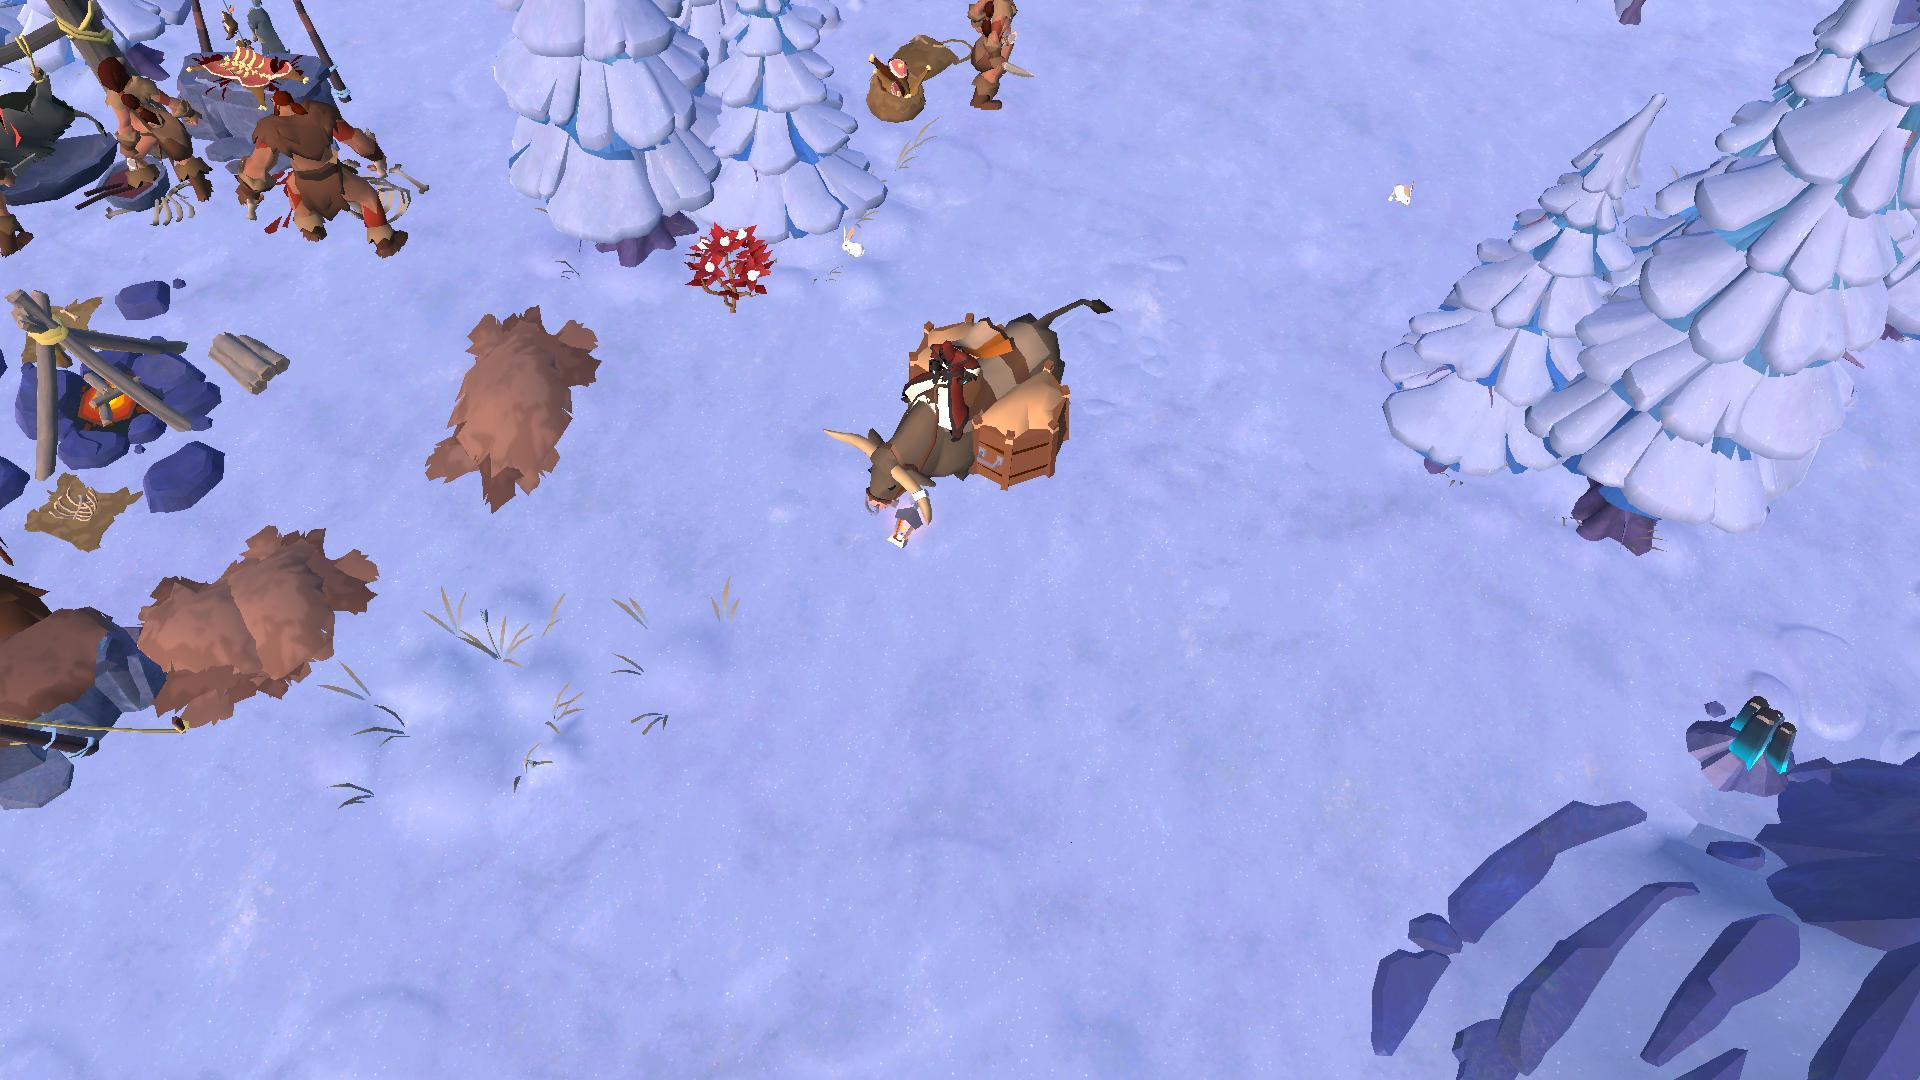enemy_factionKeeper: (241, 86, 406, 256), (91, 61, 227, 195), (959, 0, 1039, 119)
fiber_t5: (687, 222, 783, 310)
ore_t4: (1721, 687, 1796, 781)
